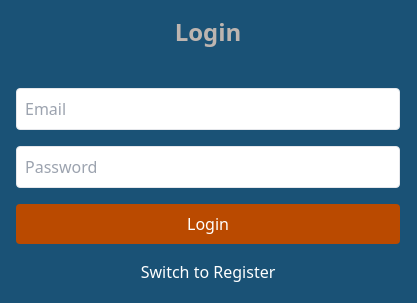
Scenario: LoginPage › toggles to registration mode when button is clicked
The width and height of the screenshot is (417, 303).
Click the button "Switch to Register" at coordinates (208, 272), box [141,260,275,284]
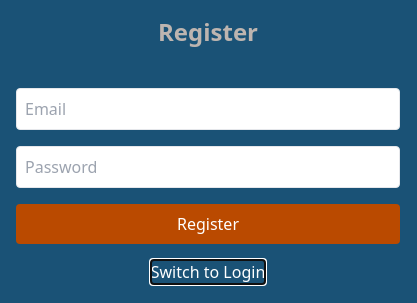
Result: the heading "Register" is shown at [158,16,258,48]
